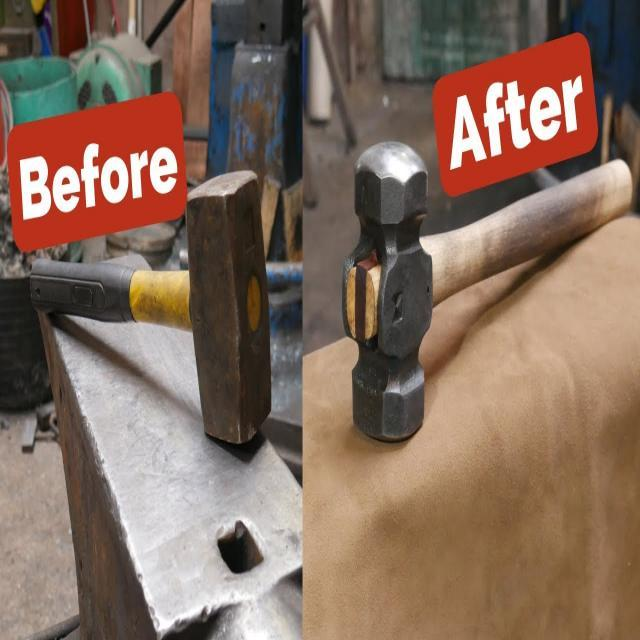hammer: (338, 136, 636, 448), (24, 162, 274, 460)
